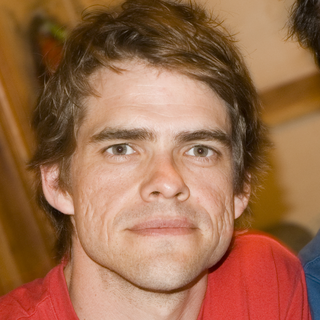eye: (96, 139, 145, 163), (178, 140, 224, 164)
